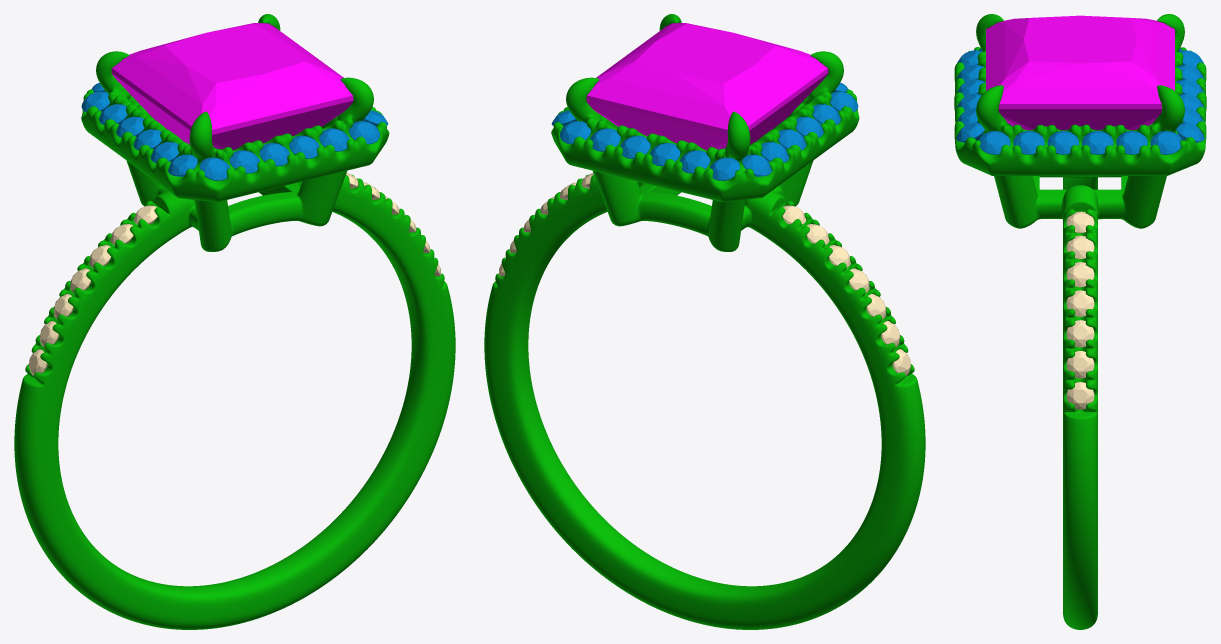
The model's file is BE1D166_PR_200ct_RENDER.glb.
The picture shows the model from 3 angles, left to right: view 1: azimuth 30°, elevation 25°; view 2: azimuth 150°, elevation 25°; view 3: azimuth 270°, elevation 25°; orthographic projection.
Parts seen in each view (by area): view 1: Metal 01, CS_Diamond_Princess; view 2: Metal 01, CS_Diamond_Princess; view 3: Metal 01, CS_Diamond_Princess, Diamond_Round_Gem_HD.013, Diamond_Round_Gem_HD.012, Diamond_Round_Gem_SH, Diamond_Round_Gem_HD.014, Diamond_Round_Gem_HD.015, Diamond_Round_Gem_HD.017, Diamond_Round_Gem_HD.016, Diamond_Round_Gem_SH.001, Diamond_Round_Gem_SH.002, Diamond_Round_Gem_SH.003 (+5 smaller).
Part boxes in pixels (left/top/right/bottom): Metal 01: left=14, top=14, right=455, bottom=629; CS_Diamond_Princess: left=111, top=23, right=353, bottom=150; Metal 01: left=484, top=14, right=925, bottom=629; CS_Diamond_Princess: left=586, top=23, right=828, bottom=150; Metal 01: left=954, top=14, right=1206, bottom=629; CS_Diamond_Princess: left=986, top=15, right=1174, bottom=130; Diamond_Round_Gem_HD.013: left=979, top=131, right=1010, bottom=154; Diamond_Round_Gem_HD.012: left=1150, top=131, right=1181, bottom=154; Diamond_Round_Gem_SH: left=1066, top=382, right=1094, bottom=409; Diamond_Round_Gem_HD.014: left=1116, top=131, right=1147, bottom=154; Diamond_Round_Gem_HD.015: left=1082, top=131, right=1113, bottom=154; Diamond_Round_Gem_HD.017: left=1013, top=131, right=1044, bottom=154; Diamond_Round_Gem_HD.016: left=1047, top=131, right=1078, bottom=154; Diamond_Round_Gem_SH.001: left=1066, top=351, right=1094, bottom=378; Diamond_Round_Gem_SH.002: left=1066, top=320, right=1094, bottom=347; Diamond_Round_Gem_SH.003: left=1066, top=290, right=1094, bottom=316.
Size of the model in its own units: 19.91 by 24.84 by 10.03.
